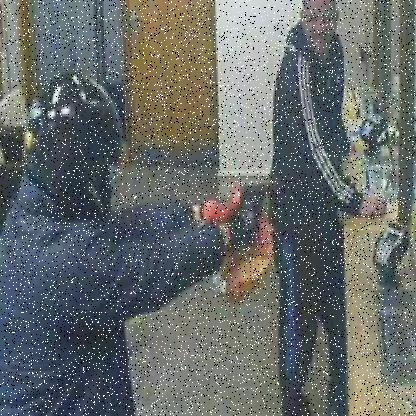pistol: (232, 171, 293, 268)
